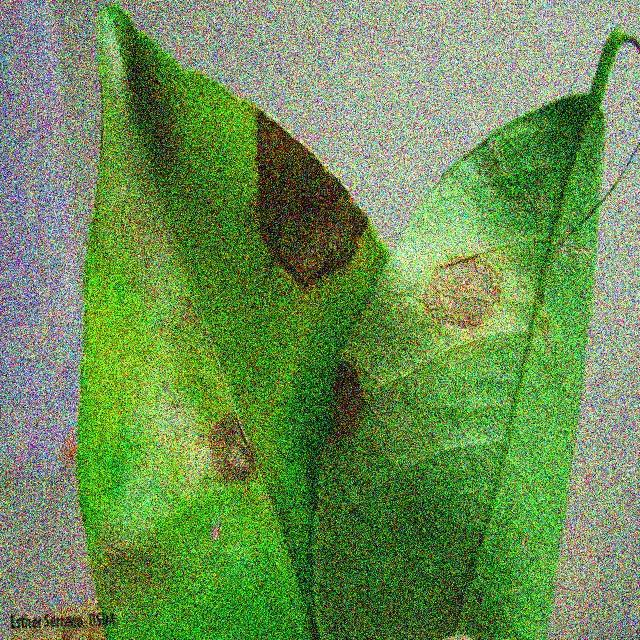leaf_spot: (52, 0, 565, 564)
